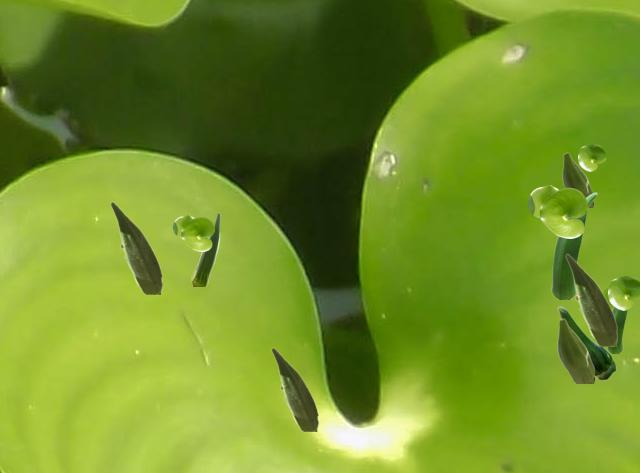okra: (551, 192, 596, 298), (110, 201, 161, 293), (565, 253, 616, 345), (557, 306, 615, 379), (271, 347, 317, 430), (557, 318, 593, 382), (191, 212, 219, 285), (562, 152, 592, 206), (607, 307, 628, 352)
